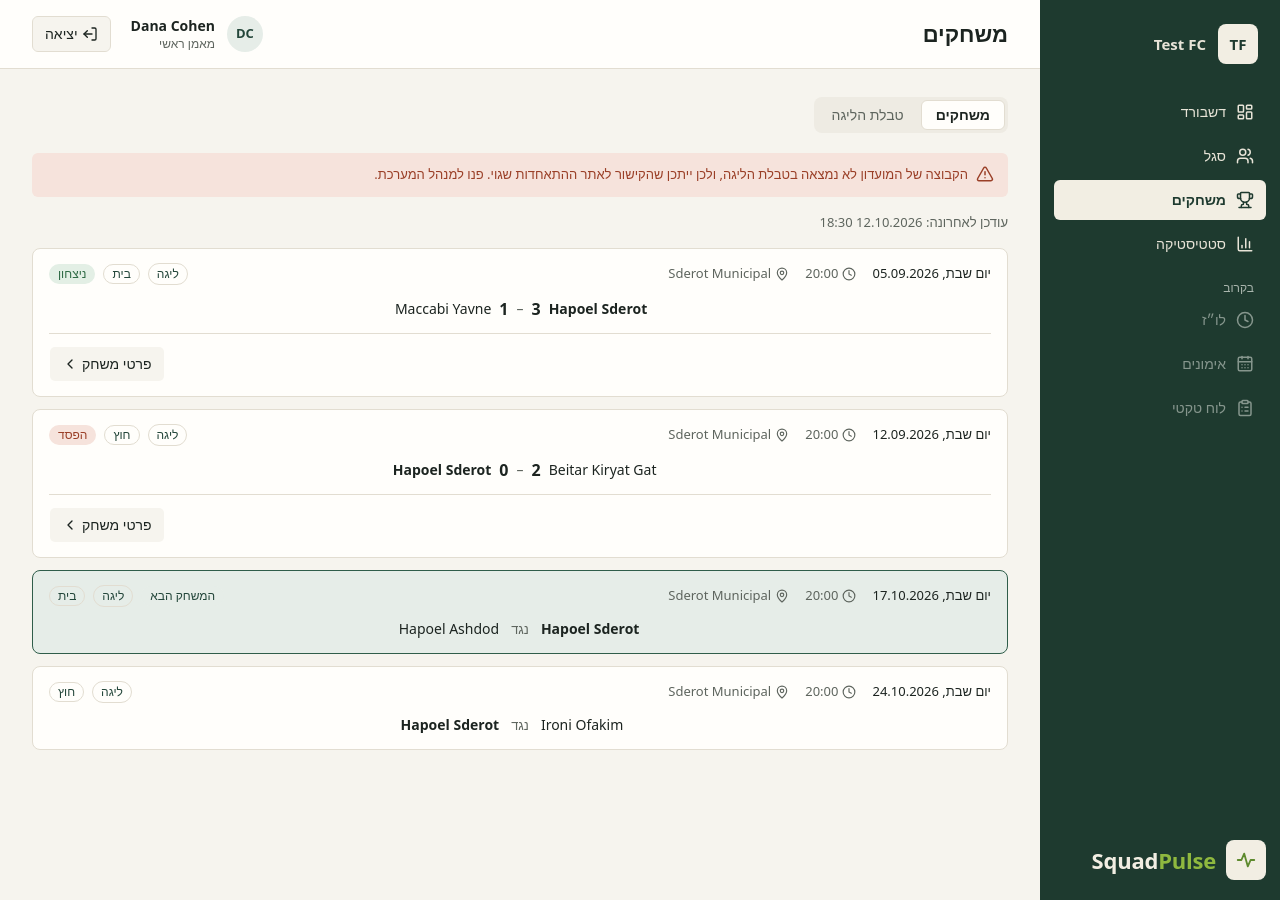
Test: the matches screen's states › warns about a mapping problem on both tabs, and still shows the data
The width and height of the screenshot is (1280, 900).
Expected: the heading "משחקים" is shown, 923,20 -> 1008,48
Expected: the text "הקבוצה של המועדון לא נמצאה בטבלת הליגה, ולכן ייתכן שהקישור לאתר ההתאחדות שגוי. פנו למנהל המערכת." is shown, 374,165 -> 968,183
What coordinates should you click on to do the following:
click the radio button labelled "טבלת הליגה"
I would click on:
 (868, 114)
Its box is 832,105 -> 904,124.
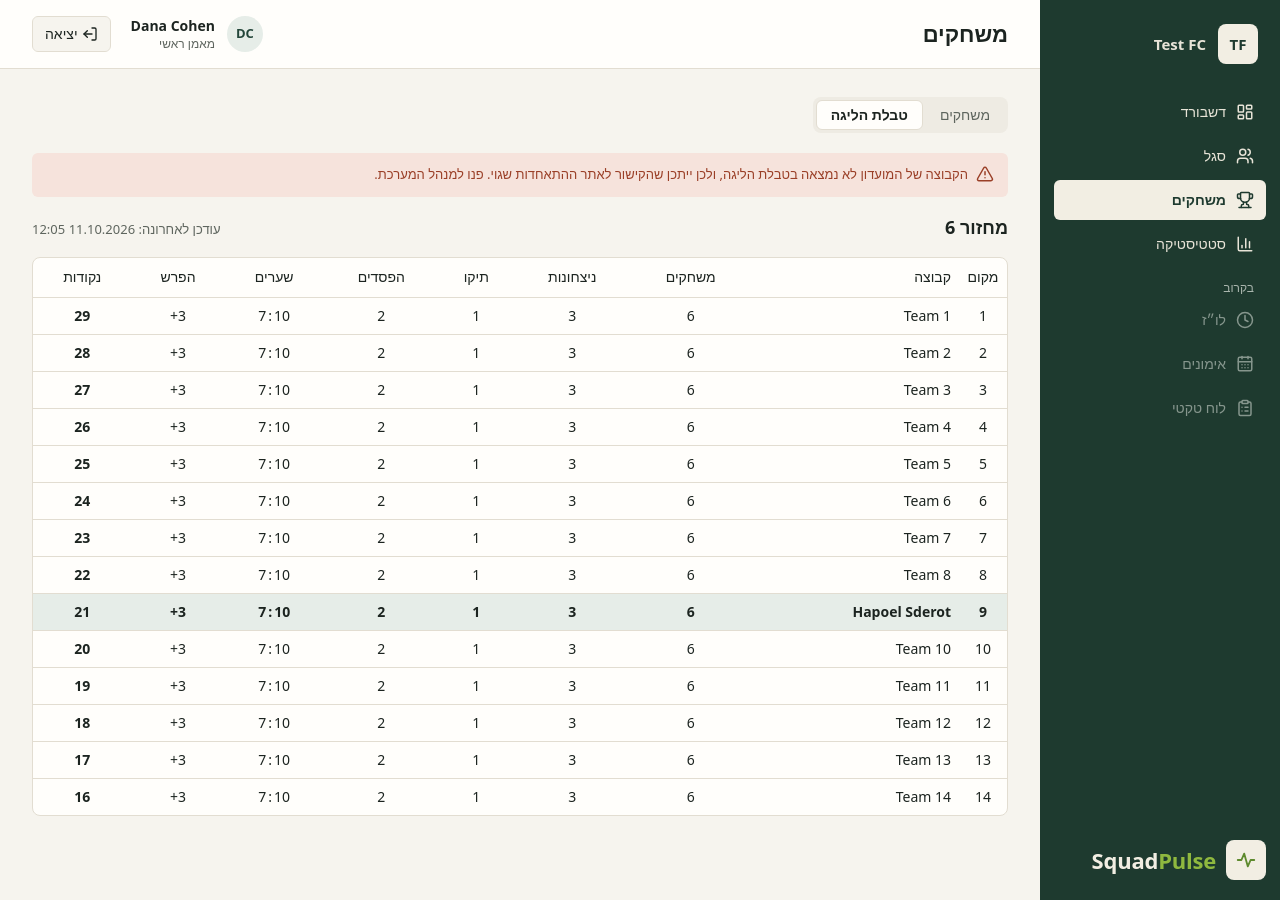
Expected: the text "הקבוצה של המועדון לא נמצאה בטבלת הליגה, ולכן ייתכן שהקישור לאתר ההתאחדות שגוי. פנו למנהל המערכת." is shown, 374,165 -> 968,183
Expected: the table is shown, 33,258 -> 1007,815
